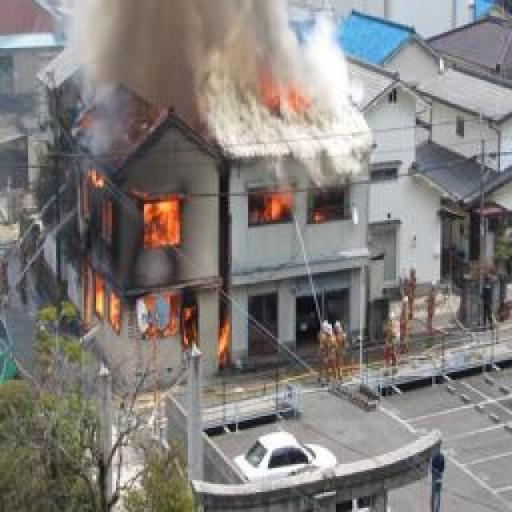smoke: (68, 156, 238, 371), (254, 182, 360, 231), (250, 63, 328, 128)
